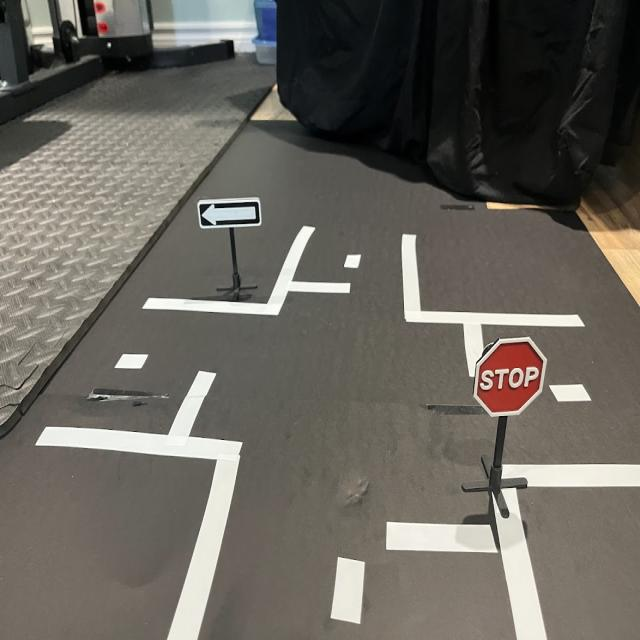sign_oneway_left: (199, 200, 264, 230)
sign_stop: (474, 338, 548, 418)
